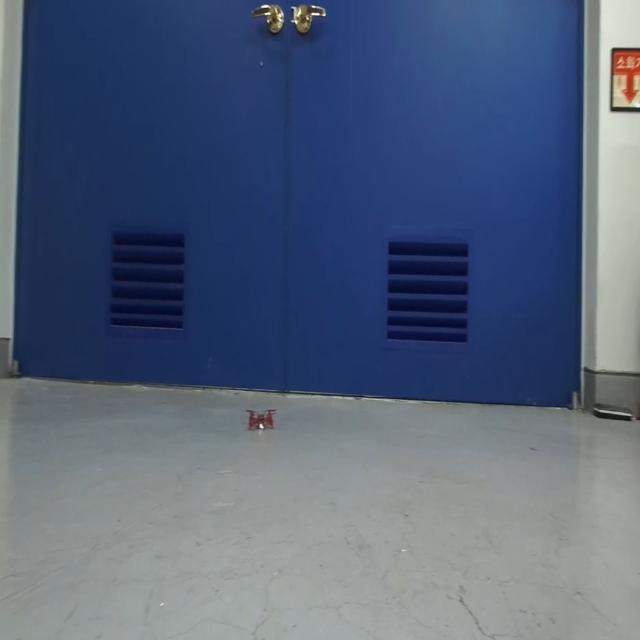crazyflie: (244, 401, 279, 435)
